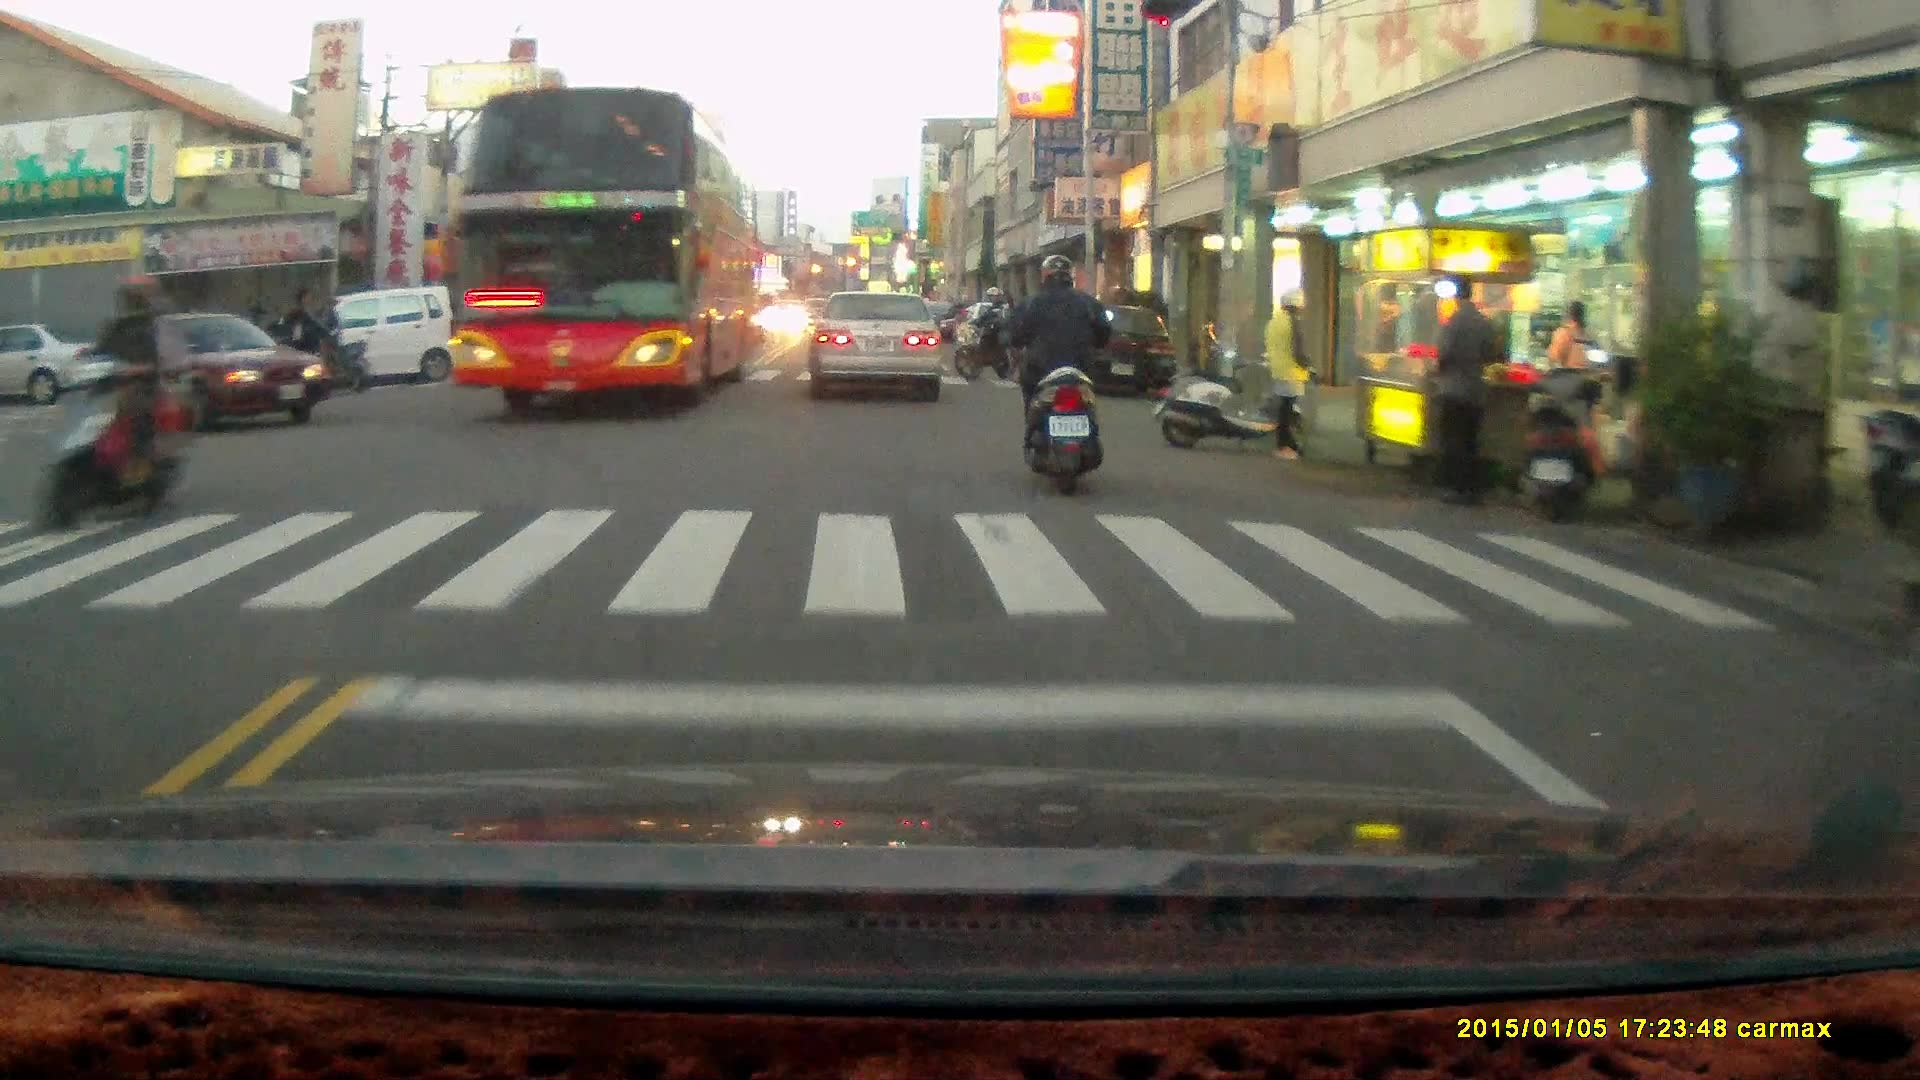pedestrian: (1433, 271, 1499, 505), (1545, 300, 1602, 489), (1263, 285, 1312, 460)
rider: (24, 272, 188, 534), (999, 245, 1114, 490), (262, 286, 353, 394), (288, 292, 363, 390), (949, 288, 1018, 386)
vehicle: (449, 77, 763, 413), (76, 309, 328, 428), (807, 288, 945, 401), (310, 289, 463, 390), (1049, 301, 1179, 404), (1, 319, 93, 408)
